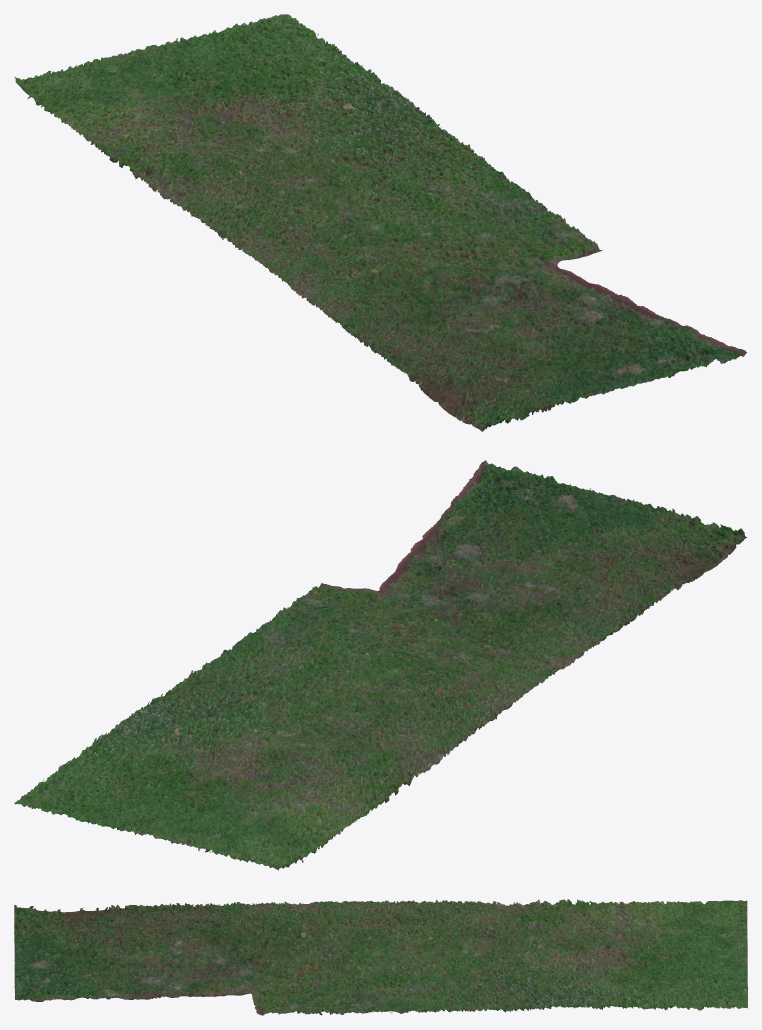
File: grass.glb
3 renders of one model, top to bottom at view 1: azimuth 30°, elevation 25°; view 2: azimuth 150°, elevation 25°; view 3: azimuth 270°, elevation 25°, orthographic. The views are drawn at different scales.
Visible parts, largest first — view 1: Model; view 2: Model; view 3: Model.
Part boxes in pixels (left/top/right/bottom): Model: left=14, top=14, right=746, bottom=431; Model: left=14, top=460, right=747, bottom=870; Model: left=14, top=899, right=747, bottom=1015.
Bounding box in the file's own units: 94.16 × 7.21 × 274.
1 material, 1 textured.
